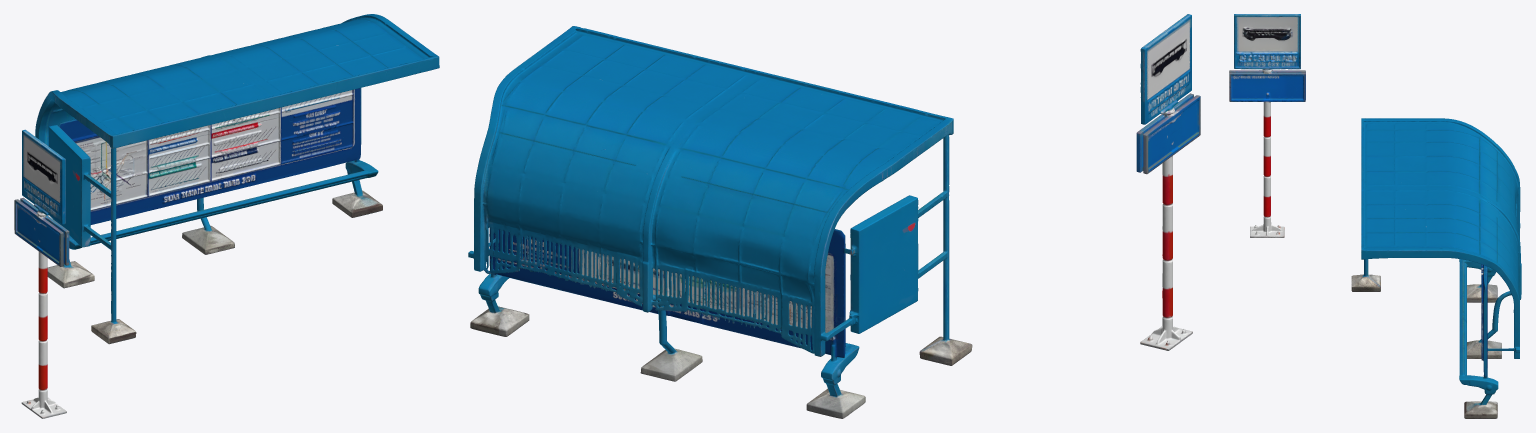
Rendered from Meshy_AI_Blue_Bus_Stop_Shelter_0701185700_texture.fbx.
3 views of the same model, side by side, from view 1: azimuth 30°, elevation 25°; view 2: azimuth 150°, elevation 25°; view 3: azimuth 270°, elevation 25° (orthographic). The views are drawn at different scales.
Parts seen in each view (by area): view 1: Mesh_0; view 2: Mesh_0; view 3: Mesh_0.
Boxes of the visible parts, x1,y1,x2,y2 form: Mesh_0: [14, 14, 439, 418]; Mesh_0: [468, 14, 1200, 418]; Mesh_0: [1229, 14, 1521, 418].
Size of the model in its own units: 190 by 102 by 123.
Materials: 1 (1 with a texture image).
